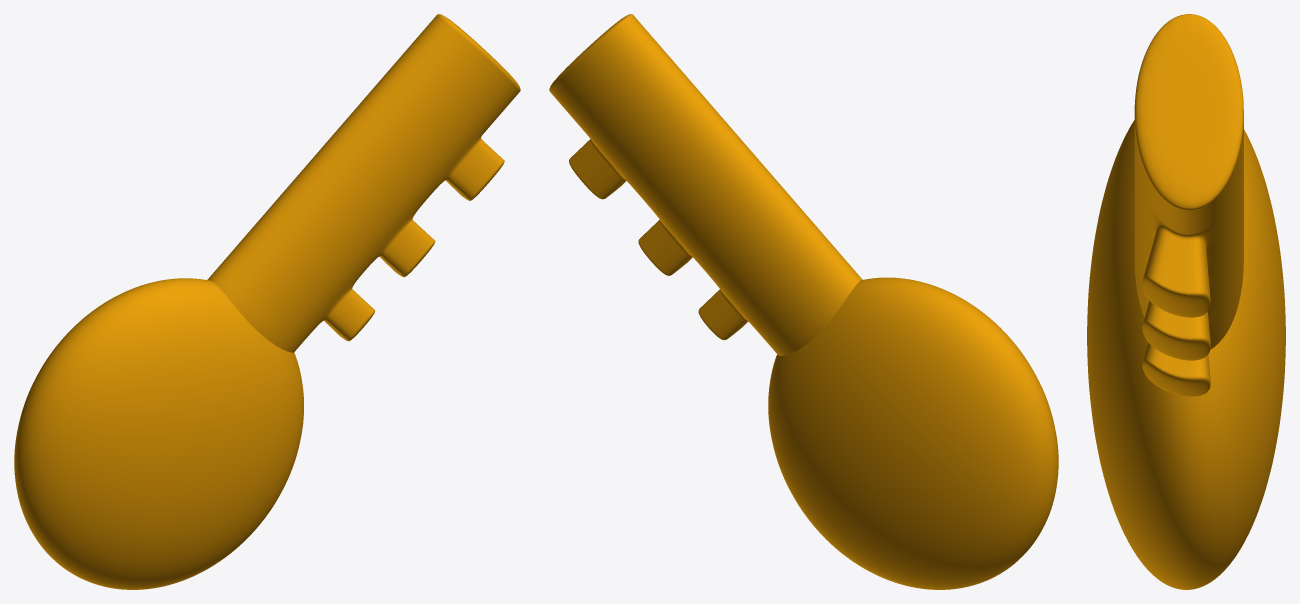
File: G1_keyModel.fbx
The picture shows the model from 3 angles, left to right: view 1: azimuth 30°, elevation 25°; view 2: azimuth 150°, elevation 25°; view 3: azimuth 270°, elevation 25°; orthographic projection. The views are drawn at different scales.
Parts seen in each view (by area): view 1: pSphere1, pCylinder1; view 2: pSphere1, pCylinder1; view 3: pSphere1, pCylinder1.
Part boxes in pixels (x1=…): pSphere1: x1=14, y1=278, x2=303, y2=589; pCylinder1: x1=207, y1=14, x2=520, y2=352; pSphere1: x1=768, y1=277, x2=1058, y2=589; pCylinder1: x1=549, y1=14, x2=862, y2=355; pSphere1: x1=1087, y1=120, x2=1285, y2=589; pCylinder1: x1=1134, y1=14, x2=1243, y2=396.
Size of the model in its own units: 7.2 by 6.86 by 1.61.
